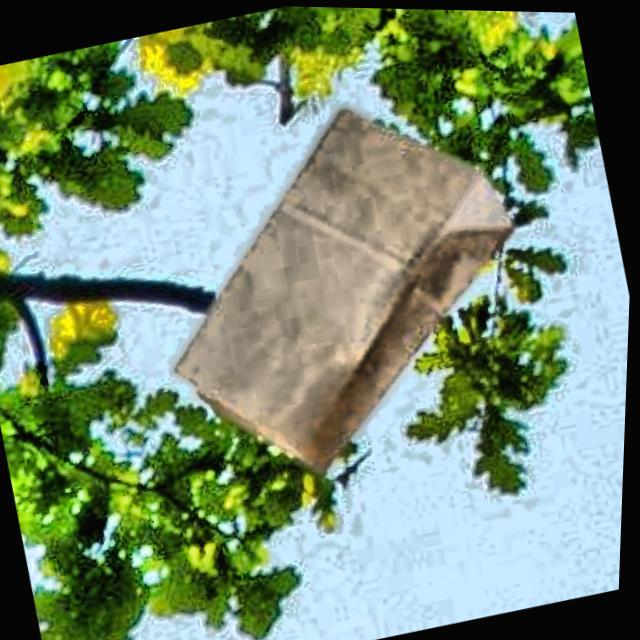Paper-bag: (98, 50, 585, 532)
